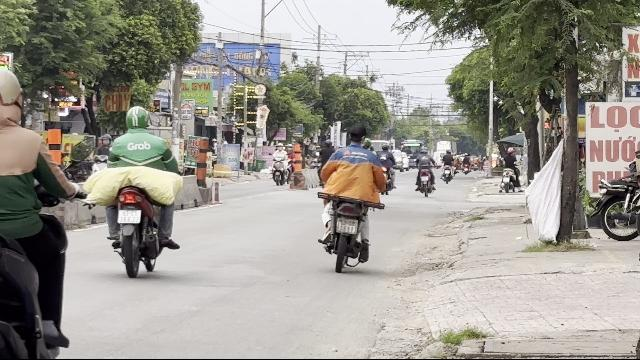helmet: (124, 106, 150, 130)
licenseplate: (336, 218, 358, 234), (118, 210, 140, 224)
motorcyclist: (80, 104, 184, 274), (314, 122, 388, 273)
nohelmet: (348, 123, 367, 143)
